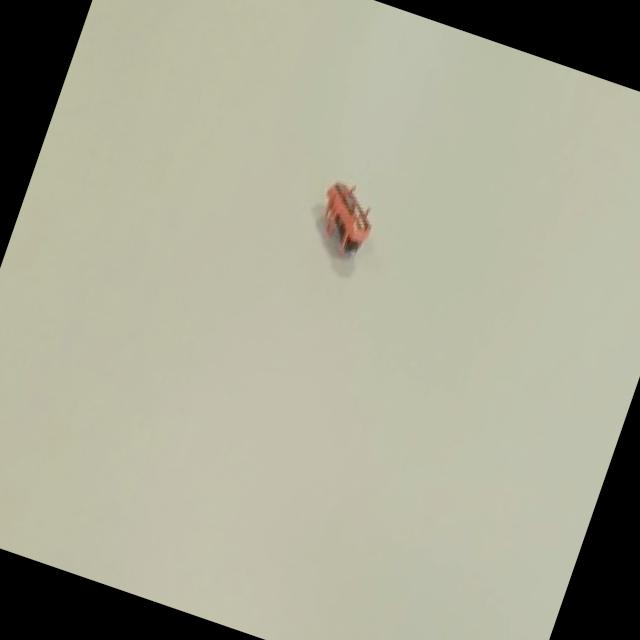7_NanoBug_Naranja: (290, 146, 416, 281)
